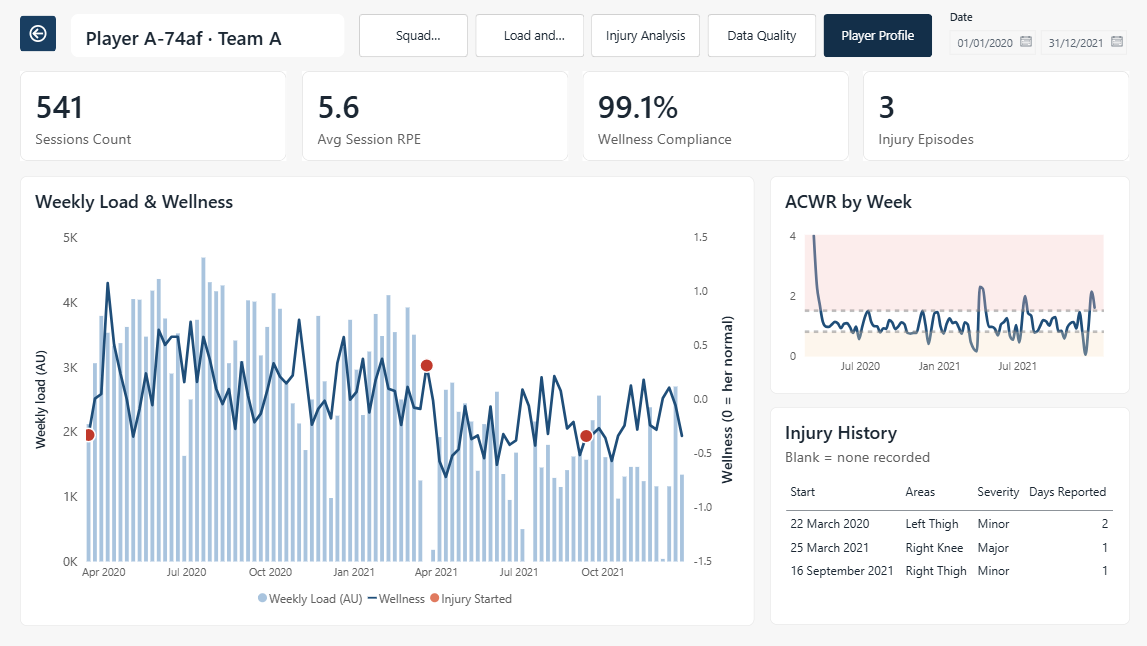

The dashboard page shown, as its layout file describes it:
{"tool":"powerbi","page":{"name":"Player Profile","canvas":[1280,720],"ordinal":4},"visuals":[{"type":"pageNavigator","box":[400,16,640,48],"z":0},{"type":"slicer","title":"Date Slicer","fields":{"Values":["Date.Date"]},"box":[1048,12,208,52],"z":1000},{"type":"textbox","box":[272,80,160,48],"z":2000},{"type":"actionButton","title":"Back Button","box":[24,18,40,40],"z":3000},{"type":"lineClusteredColumnComboChart","title":"Weekly Load & Wellness","fields":{"Category":["Date.WeekStart"],"Y":["_Measure.Profile Load"],"Y2":["_Measure.Wellness Index z","_Measure.Injury Started"]},"box":[24,196,816,500],"z":4000},{"type":"lineChart","title":"ACWR by Week","fields":{"Category":["Date.WeekStart"],"Y":["_Measure.ACWR"]},"box":[856,196,400,242],"z":5000},{"type":"tableEx","title":"Injury History","fields":{"Values":["Episodes.Start","Episodes.Areas","Episodes.Severity","Sum(Episodes.DurationDays)"]},"box":[856,454,400,242],"z":6000},{"type":"cardVisual","title":"Sessions Count KPI","fields":{"Data":["_Measure.Sessions Count"]},"box":[24,80,296,100],"z":7000},{"type":"cardVisual","title":"Injury Episodes KPI","fields":{"Data":["_Measure.Injury Episodes"]},"box":[960,80,296,100],"z":8000},{"type":"cardVisual","title":"Compliance KPI","fields":{"Data":["_Measure.Wellness Compliance"]},"box":[648,80,296,100],"z":9000},{"type":"cardVisual","title":"RPE KPI","fields":{"Data":["_Measure.Avg Session RPE"]},"box":[336,80,296,100],"z":10000},{"type":"cardVisual","title":"Player Identifier","fields":{"Data":["_Measure.Selected Player"]},"box":[80,16,304,48],"z":11000}]}

Visuals, with their boxes in screenshot pixels (x1, y1, x2, y2), scaled from the page's 1280x720 canvas onto the 1147x646 screenshot:
pageNavigator: box(358, 14, 932, 57)
"Date Slicer" slicer: box(939, 11, 1125, 57)
textbox: box(244, 72, 387, 115)
"Back Button" actionButton: box(22, 16, 57, 52)
"Weekly Load & Wellness" lineClusteredColumnComboChart: box(22, 176, 753, 624)
"ACWR by Week" lineChart: box(767, 176, 1125, 393)
"Injury History" tableEx: box(767, 407, 1125, 624)
"Sessions Count KPI" cardVisual: box(22, 72, 287, 162)
"Injury Episodes KPI" cardVisual: box(860, 72, 1125, 162)
"Compliance KPI" cardVisual: box(581, 72, 846, 162)
"RPE KPI" cardVisual: box(301, 72, 566, 162)
"Player Identifier" cardVisual: box(72, 14, 344, 57)
